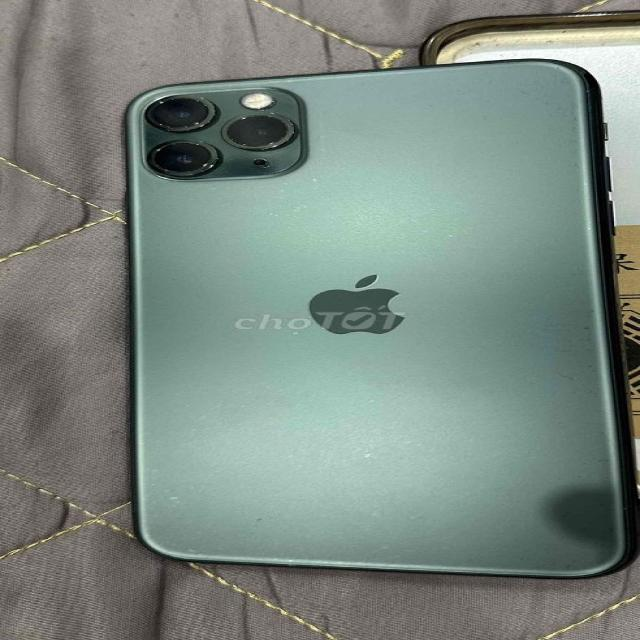scratch: (133, 462, 508, 582)
